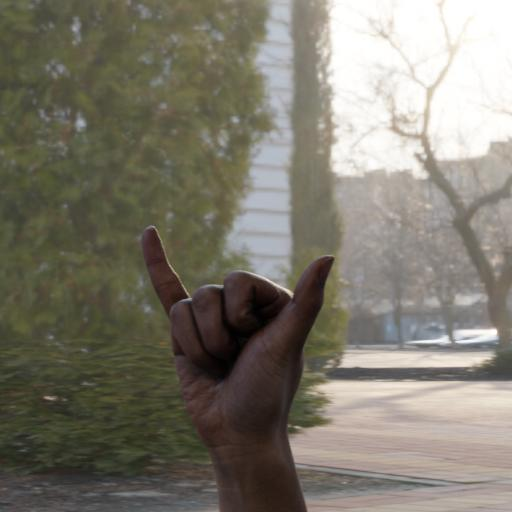Y: (139, 221, 338, 444)
